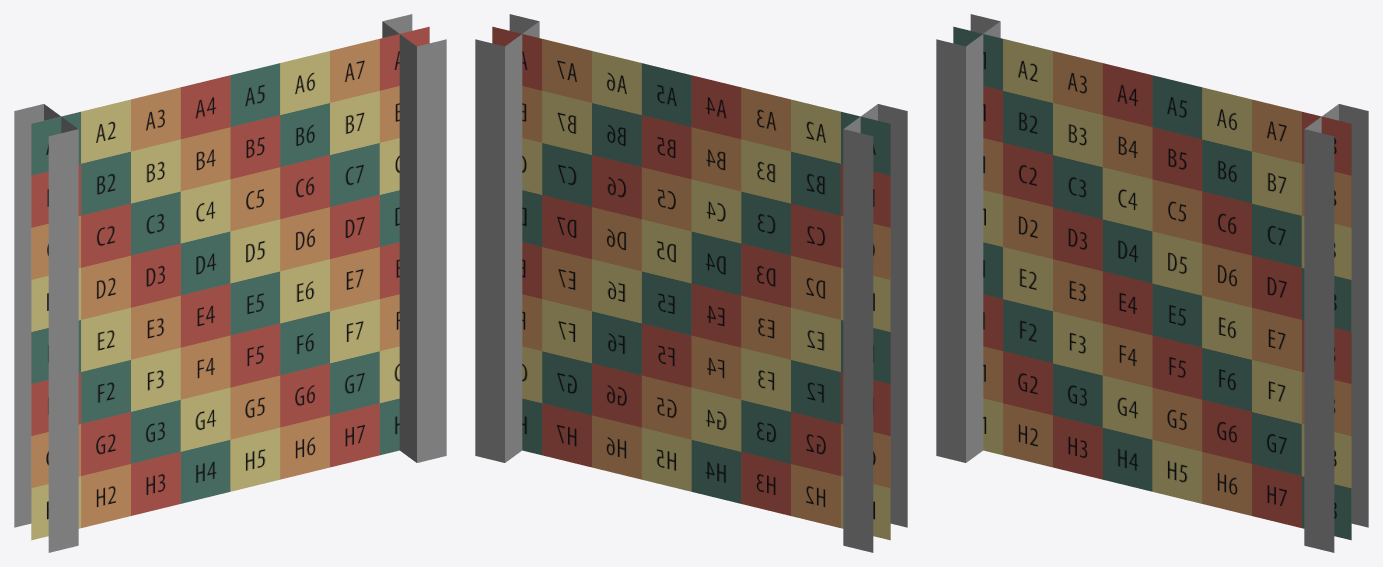
Rendered from SM_Wall02.fbx.
The picture shows the model from 3 angles, left to right: view 1: azimuth 30°, elevation 25°; view 2: azimuth 150°, elevation 25°; view 3: azimuth 330°, elevation 25°; orthographic projection.
Parts seen in each view (by area): view 1: polySurface2; view 2: polySurface2; view 3: polySurface2.
Boxes of the visible parts, x1=… form: polySurface2: x1=14, y1=14, x2=446, y2=552; polySurface2: x1=475, y1=14, x2=907, y2=552; polySurface2: x1=936, y1=14, x2=1368, y2=552.
Size of the model in its own units: 200 by 200 by 30.
2 materials, 1 textured.
